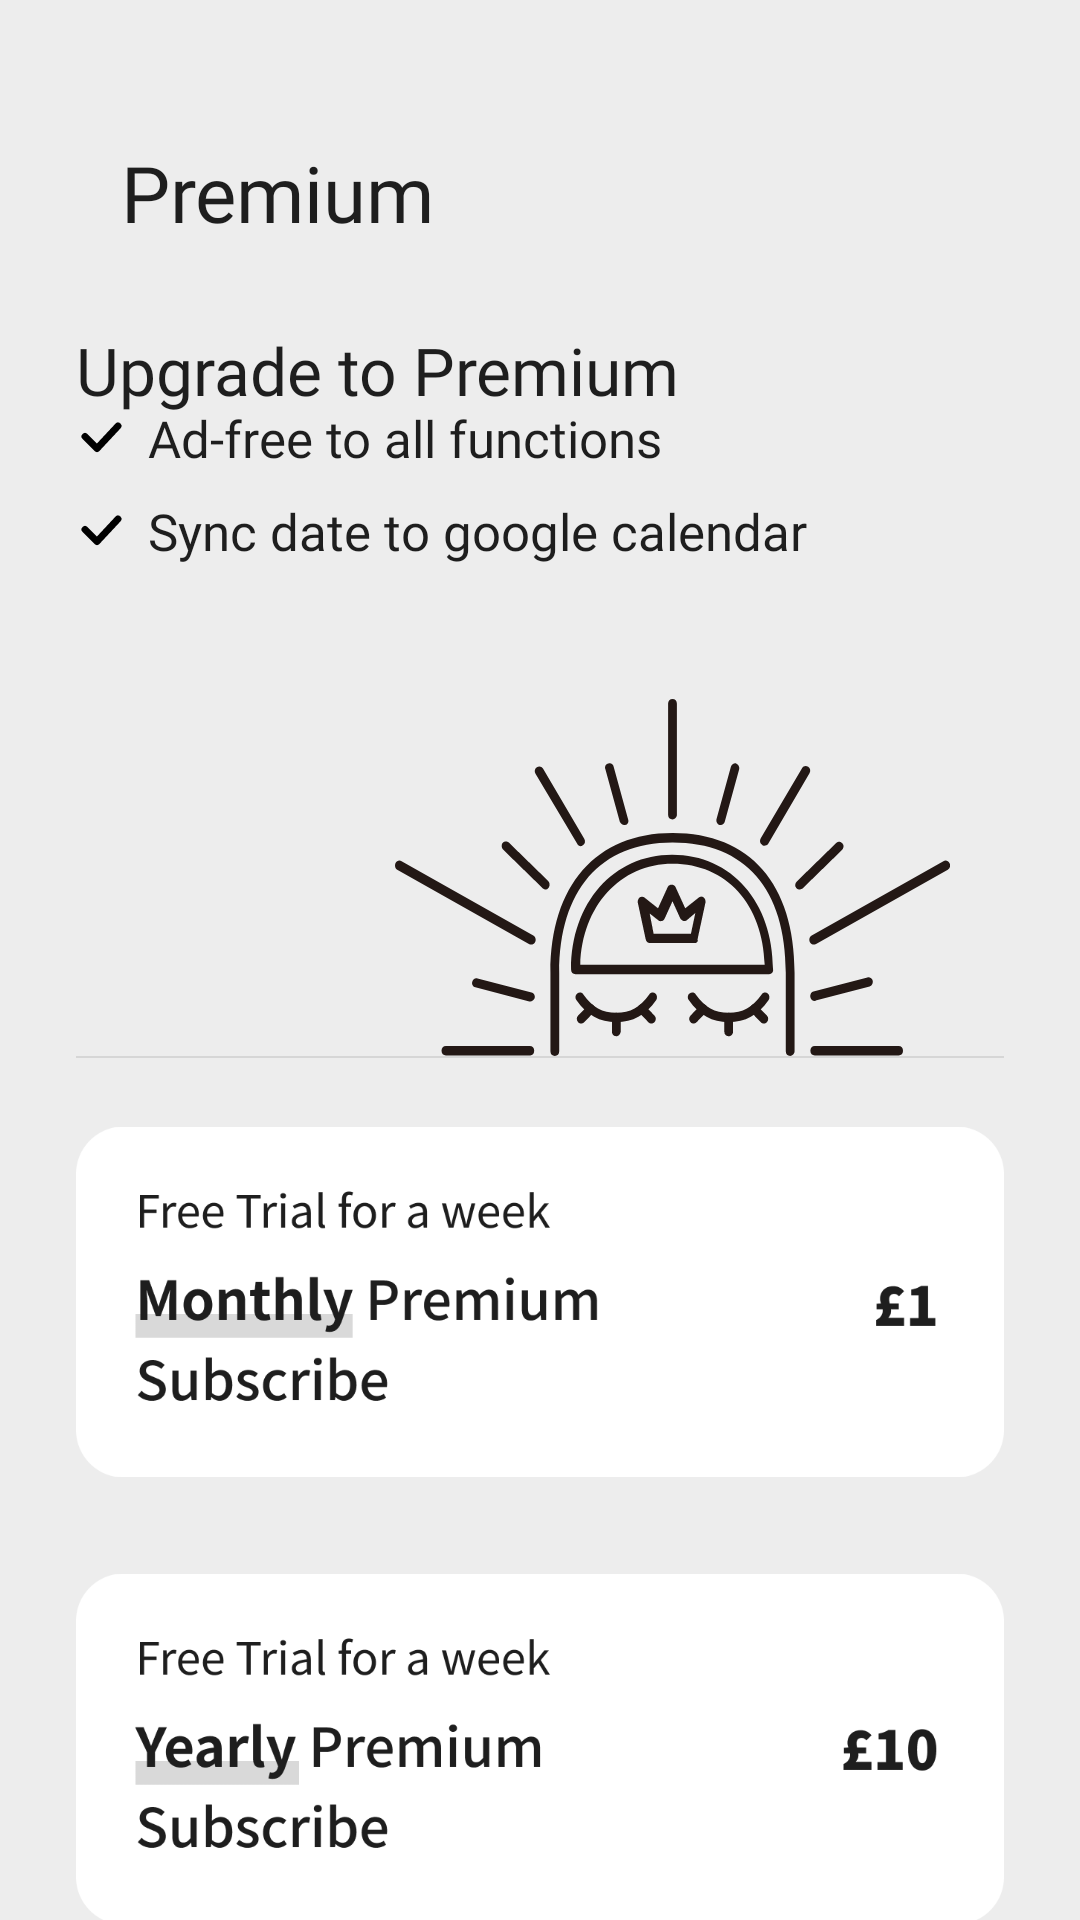

Where to tap for icons on this 1080*1920 app screen, as point (x, y):
premium check: point (101, 437), point (101, 530)
